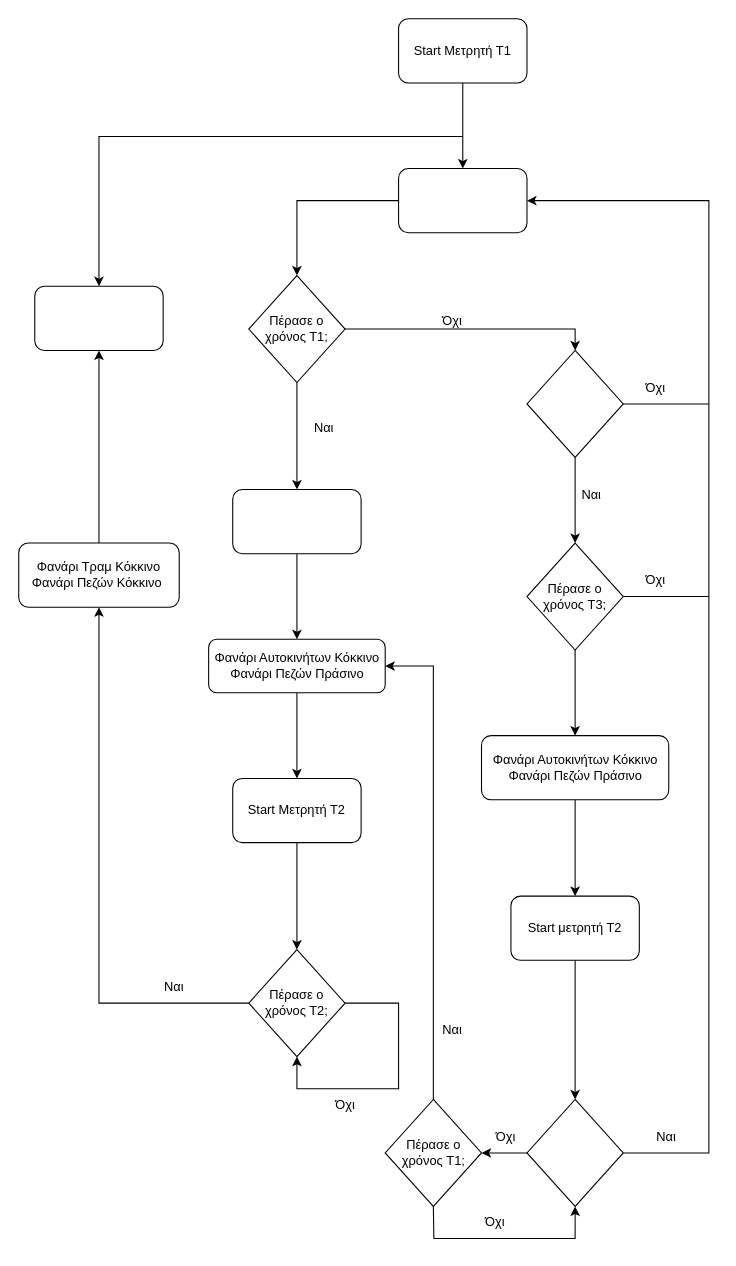
This 736x1266 diagram has some shape labels left out. The centre of each missing label's shape, as x and y in pixels:
"Start Μετρητή Τ3 Start Μετρητή Τ1" goes at (98,317).
"Πέρασε ο χρόνος T2;" goes at (574,1152).
"Πατήθηκε το Κουμπί;" goes at (574,403).
"Φανάρι Αυτοκινήτων Πράσινο" goes at (462,200).
"Φανάρι Τρένου Πράσινο" goes at (296,521).
